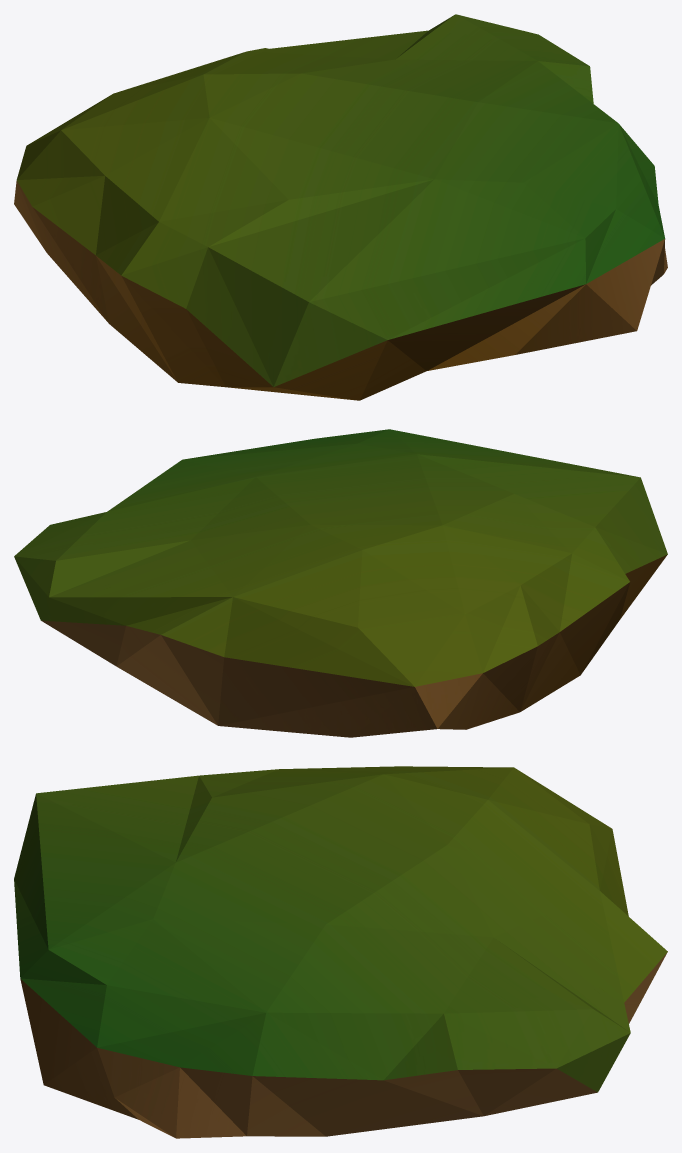
File: ground_rock.fbx
The picture shows the model from 3 angles, top to bottom: view 1: azimuth 30°, elevation 25°; view 2: azimuth 150°, elevation 25°; view 3: azimuth 270°, elevation 25°; orthographic projection. The views are drawn at different scales.
Visible parts, largest first — view 1: rock_1; view 2: rock_1; view 3: rock_1.
Boxes of the visible parts, x1=… form: rock_1: x1=14, y1=14, x2=667, y2=400; rock_1: x1=14, y1=429, x2=667, y2=737; rock_1: x1=14, y1=766, x2=667, y2=1138.
Bounding box in the file's own units: 6018 × 1982 × 5650.
